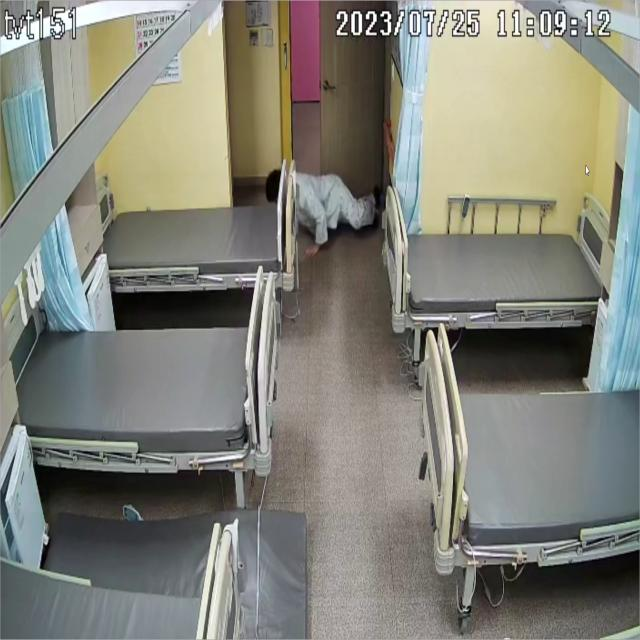bed: (420, 324, 640, 569), (14, 318, 278, 470), (382, 213, 616, 332), (105, 192, 294, 290)
fall: (267, 164, 381, 256)
patient: (268, 166, 381, 253)
